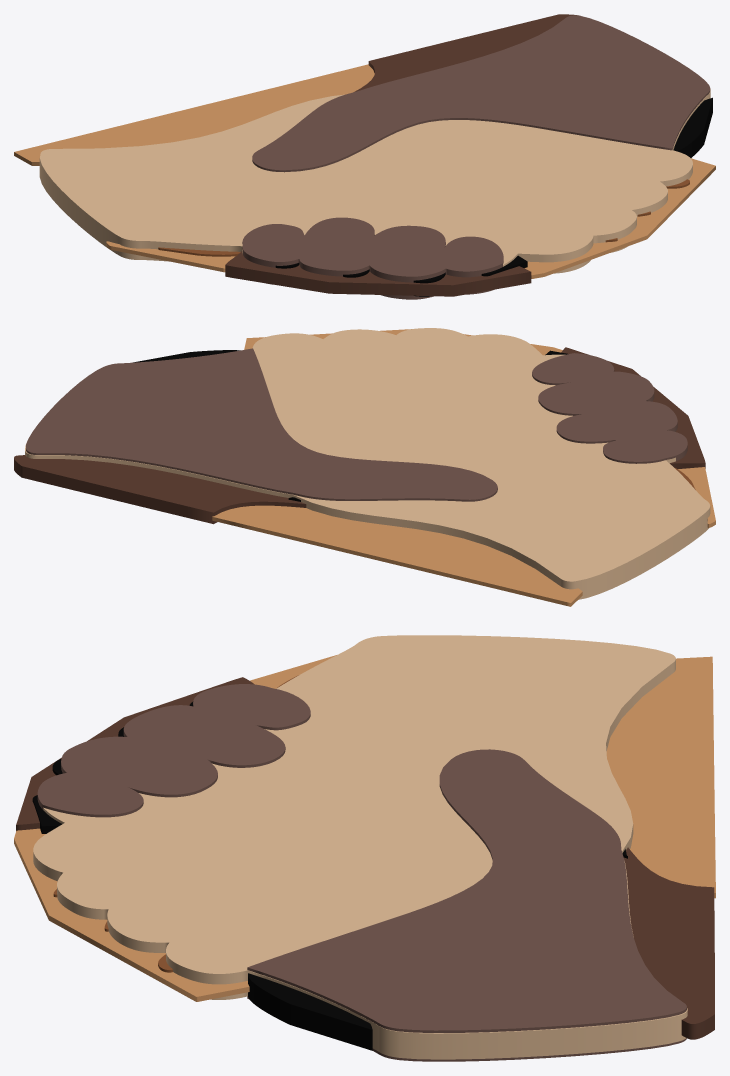
Rendered from emoji_u1faf1_1f3fc_200d_1faf2_1f3ff.glb.
The picture shows the model from 3 angles, top to bottom: view 1: azimuth 30°, elevation 25°; view 2: azimuth 150°, elevation 25°; view 3: azimuth 270°, elevation 25°; orthographic projection. The views are drawn at different scales.
Parts seen in each view (by area): view 1: emoji_u1faf1_1f3fc_200d_1faf2_1f3ff; view 2: emoji_u1faf1_1f3fc_200d_1faf2_1f3ff; view 3: emoji_u1faf1_1f3fc_200d_1faf2_1f3ff.
Part boxes in pixels (x1,y1,x2,y2): emoji_u1faf1_1f3fc_200d_1faf2_1f3ff: (14, 14, 715, 299); emoji_u1faf1_1f3fc_200d_1faf2_1f3ff: (14, 328, 715, 606); emoji_u1faf1_1f3fc_200d_1faf2_1f3ff: (14, 635, 715, 1061).
Size of the model in its own units: 0.0332 by 0.0012 by 0.0244.
